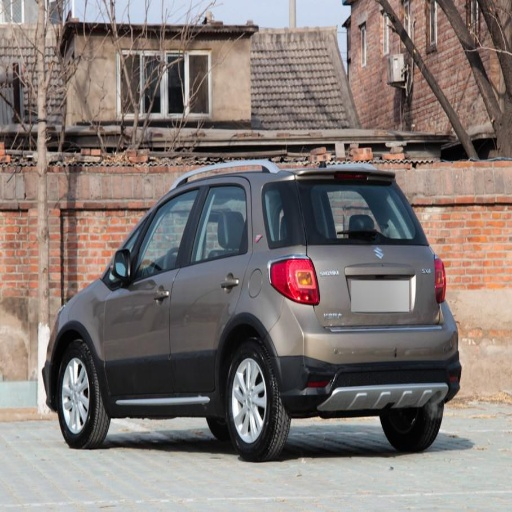back_bumper: (271, 300, 461, 406)
back_glass: (266, 179, 421, 239)
back_left_door: (170, 180, 250, 394)
tailgate: (330, 272, 427, 328)
trunk: (303, 247, 436, 332)
